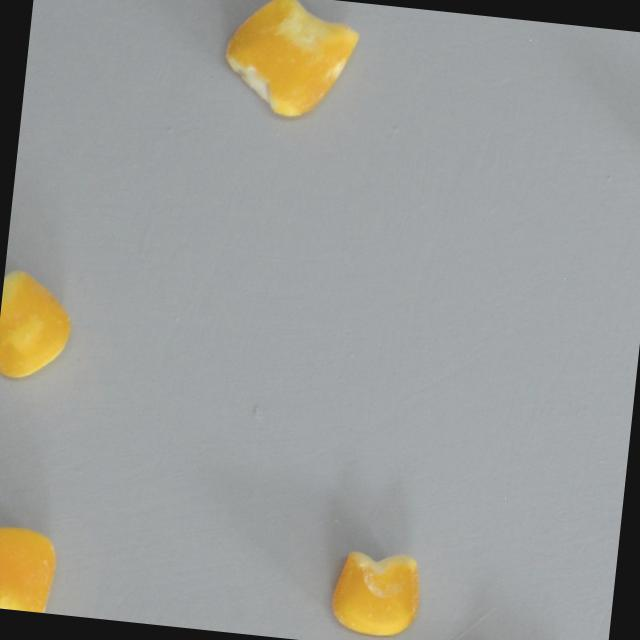no_canjicado: (216, 0, 362, 122), (0, 267, 77, 382), (328, 547, 423, 639)
pelicula: (0, 524, 58, 613)
